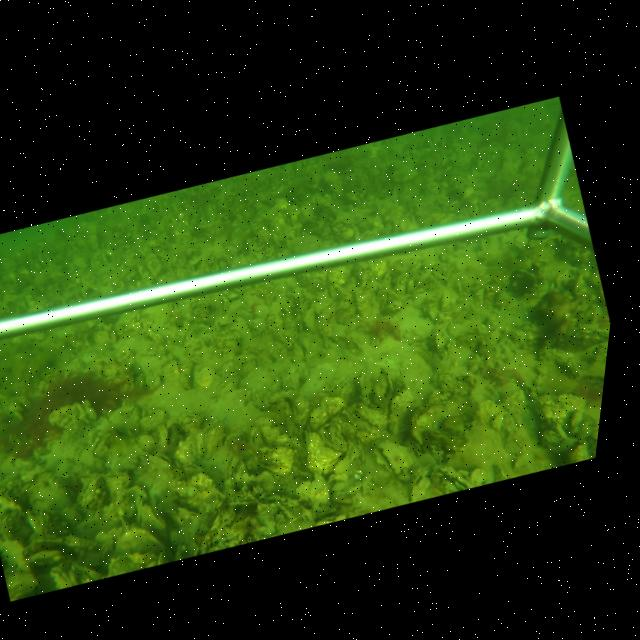Oyster-Closed: (116, 525, 166, 552), (201, 421, 228, 457), (371, 366, 392, 409), (213, 370, 240, 401), (137, 502, 165, 531), (407, 470, 430, 499), (355, 365, 373, 400), (302, 303, 318, 331), (249, 424, 266, 449), (290, 341, 304, 363), (301, 334, 313, 358), (286, 323, 298, 340)
Oyster-Indeterminate: (305, 430, 342, 474), (155, 423, 169, 449)
Oyster-Open: (373, 439, 419, 474), (21, 533, 65, 568), (139, 451, 172, 472)
